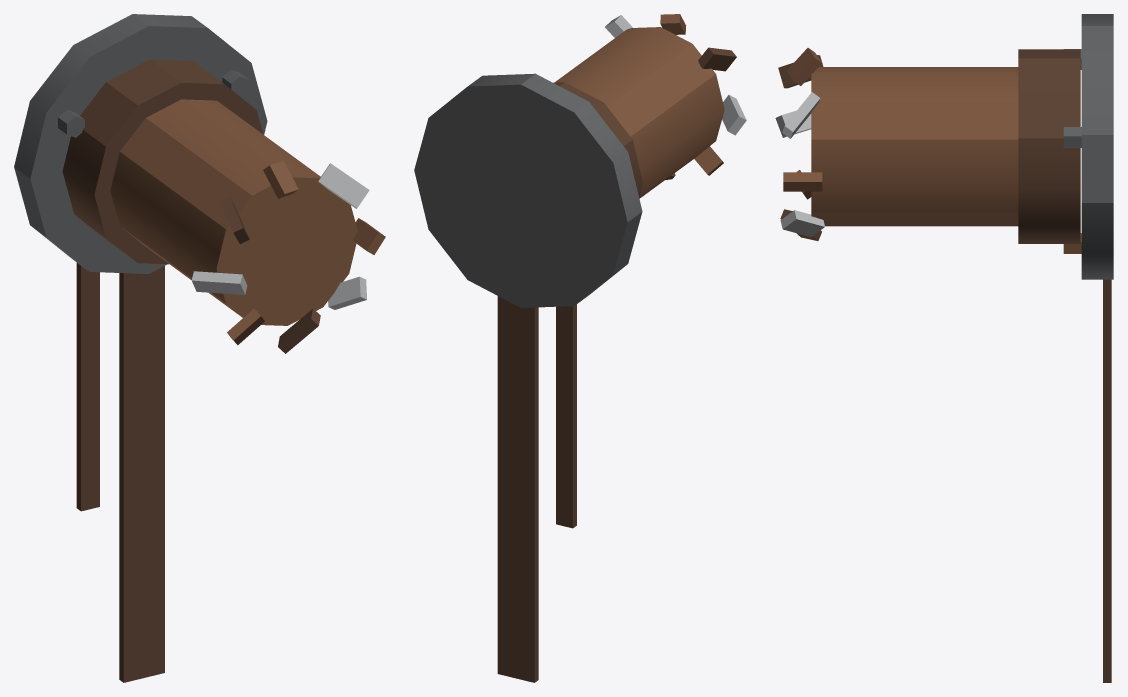
The model's file is Startle_PipeStub.fbx.
3 views of the same model, side by side, from view 1: azimuth 30°, elevation 25°; view 2: azimuth 150°, elevation 25°; view 3: azimuth 270°, elevation 25° (orthographic). The views are drawn at different scales.
Parts seen in each view (by area): view 1: Startle_PipeStub; view 2: Startle_PipeStub; view 3: Startle_PipeStub.
Boxes of the visible parts, x1,y1,x2,y2 form: Startle_PipeStub: (14, 14, 385, 682); Startle_PipeStub: (414, 14, 746, 682); Startle_PipeStub: (775, 14, 1113, 682).
Bounding box in the file's own units: 15 × 40 × 19.03.
